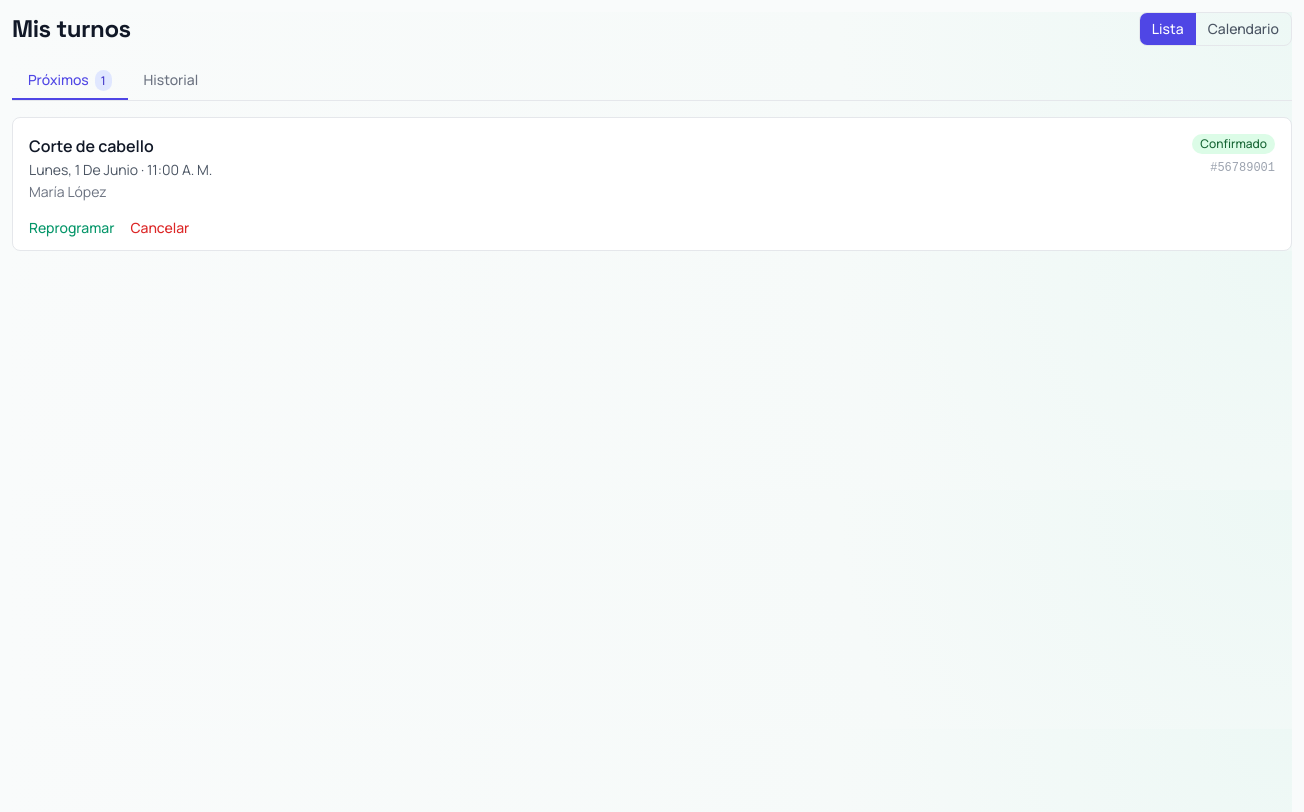
AppointmentsPage › list view — tab switching › switches to Historial tab and shows past appointments
This screenshot has width=1304, height=812.
Click the button "Historial". click: (171,81)
box: [128,62,214,100]
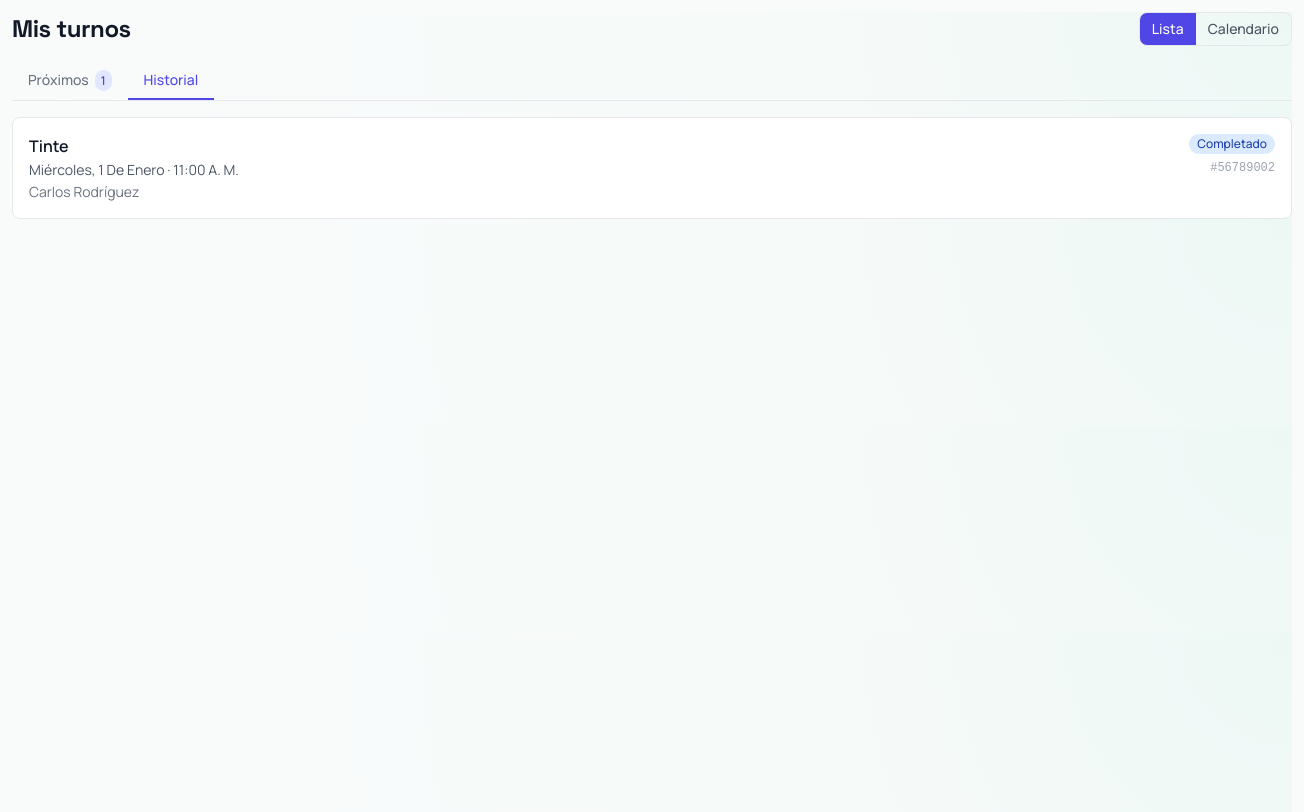
Expected: the text "Tinte" is shown, [29,135,69,157]
Expected: the link "Corte de cabello" is gone
